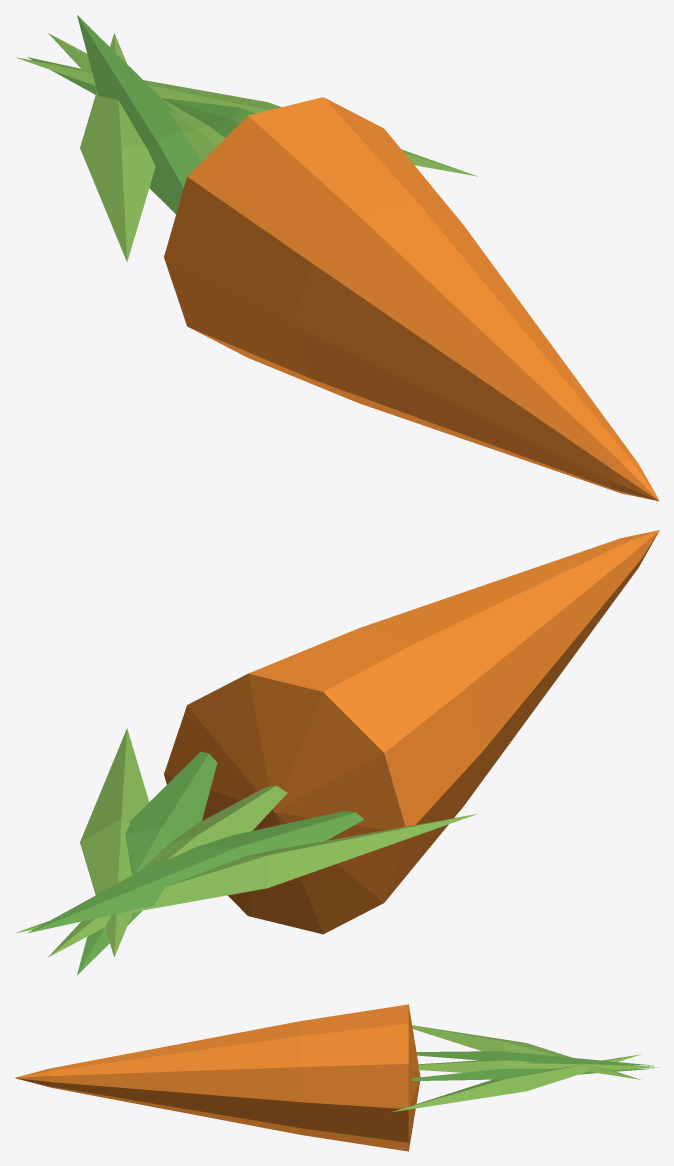
File: carrot.glb
The picture shows the model from 3 angles, top to bottom: view 1: azimuth 30°, elevation 25°; view 2: azimuth 150°, elevation 25°; view 3: azimuth 270°, elevation 25°; orthographic projection. The views are drawn at different scales.
Parts seen in each view (by area): view 1: carrot; view 2: carrot; view 3: carrot.
Boxes of the visible parts, x1,y1,x2,y2 form: carrot: [15, 15, 659, 501]; carrot: [16, 530, 659, 975]; carrot: [15, 1004, 659, 1151].
Bounding box in the file's own units: 0.0895 × 0.059 × 0.27.
